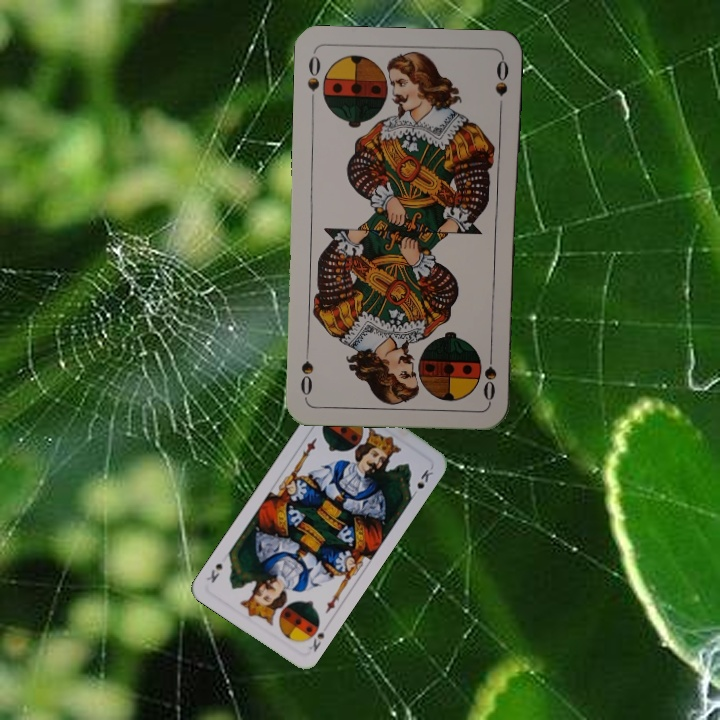SK: (305, 627, 327, 654)
SO: (479, 345, 499, 404), (303, 52, 323, 109)
